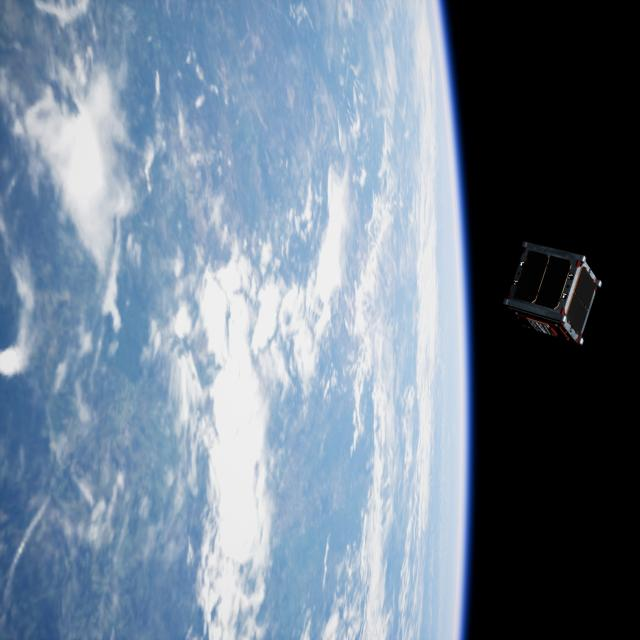satellite: (505, 236, 609, 353)
